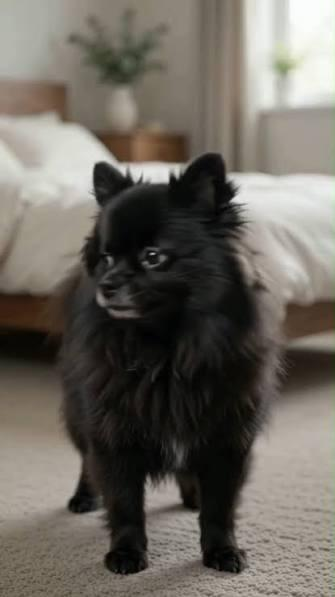adult_dog: (58, 152, 285, 577)
